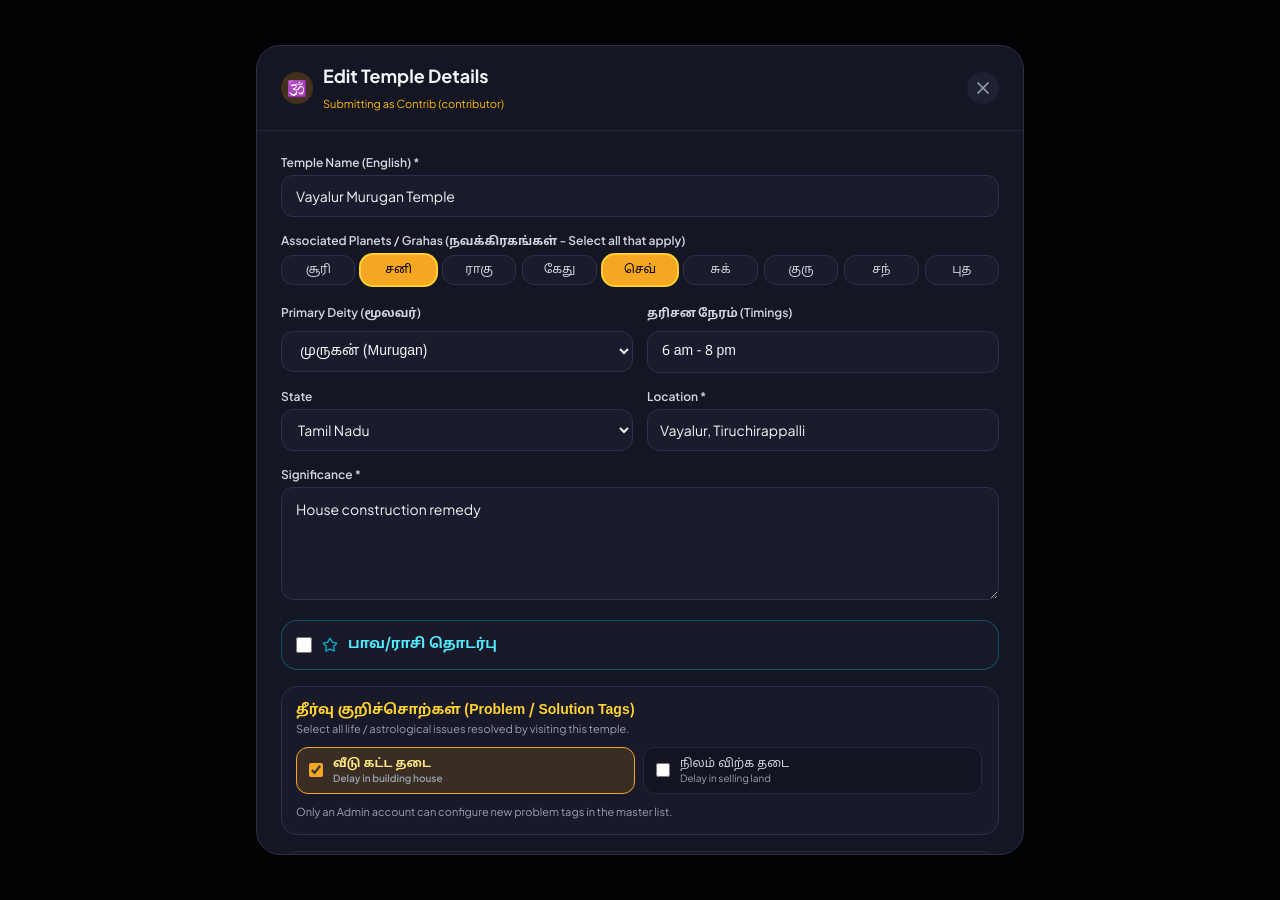
Scenario: Phase 2: Astrologer Solution Finder & Problem Tags Suite › allows selecting multiple solution tags in AddEditTempleModal and restricts inline add to admin
Later steps or results of the test are not shown.
Check: the text "Only an Admin account can configure new problem tags" is shown, box [296, 805, 672, 818]
Click the checkbox labelled "நிலம் விற்க தடை Delay in selling land". click: (663, 770)
box: [656, 763, 670, 777]
(page scrolled)
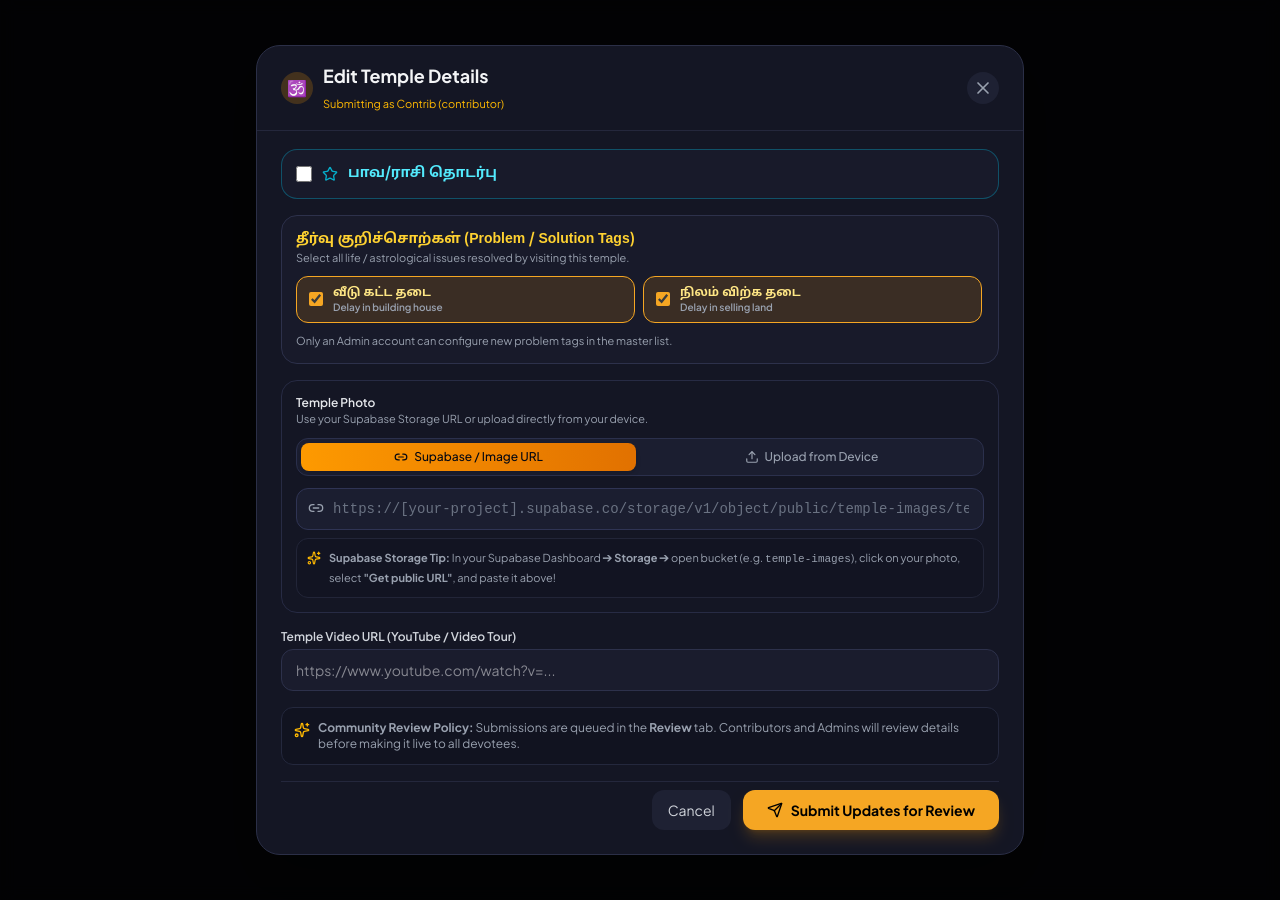
Check: the checkbox labelled "நிலம் விற்க தடை Delay in selling land" is checked, box [656, 292, 670, 306]
